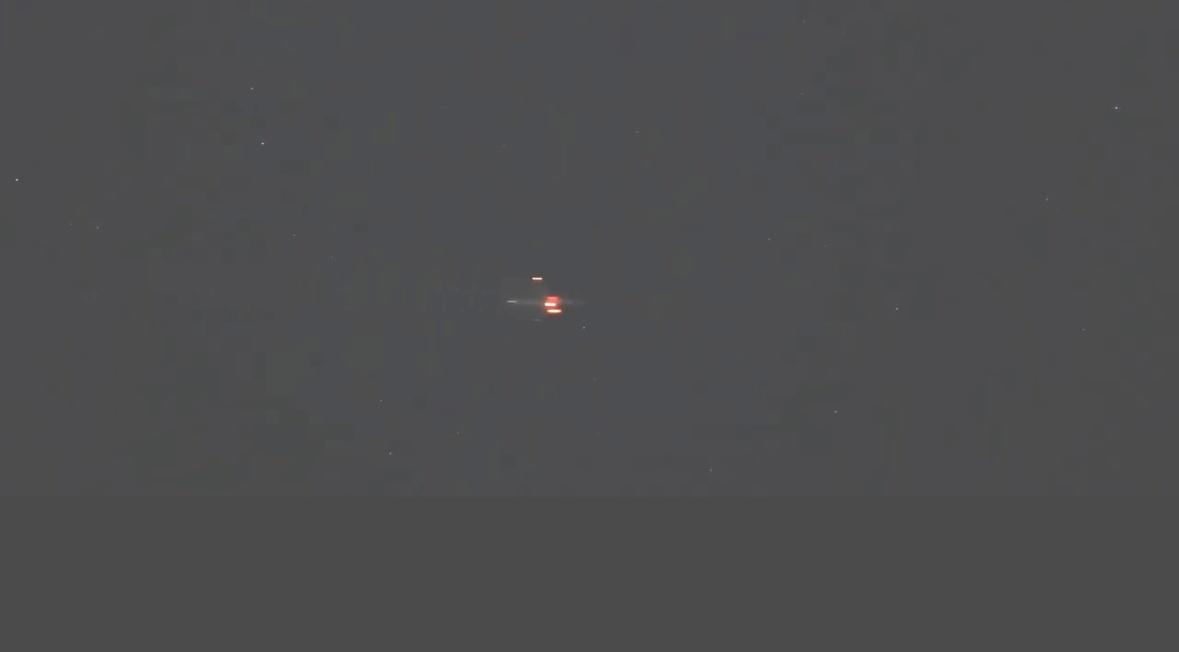Plane: (474, 259, 601, 329)
